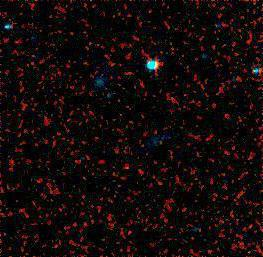star: (110, 152, 140, 182)
